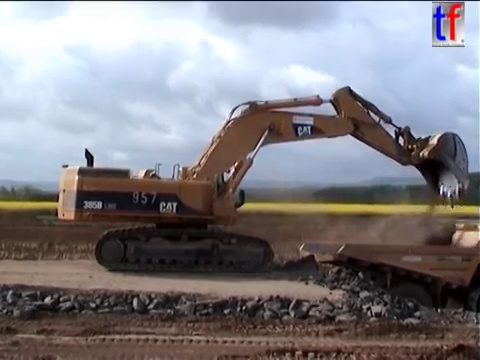excavator: (55, 83, 472, 275)
truck: (296, 220, 480, 338)
